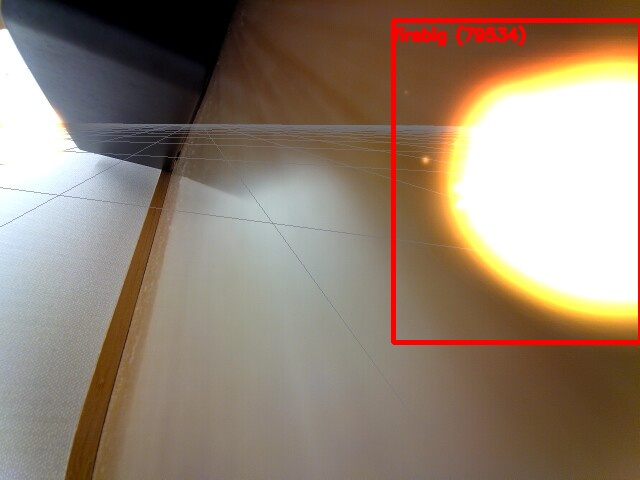firebig: (393, 20, 640, 342)
